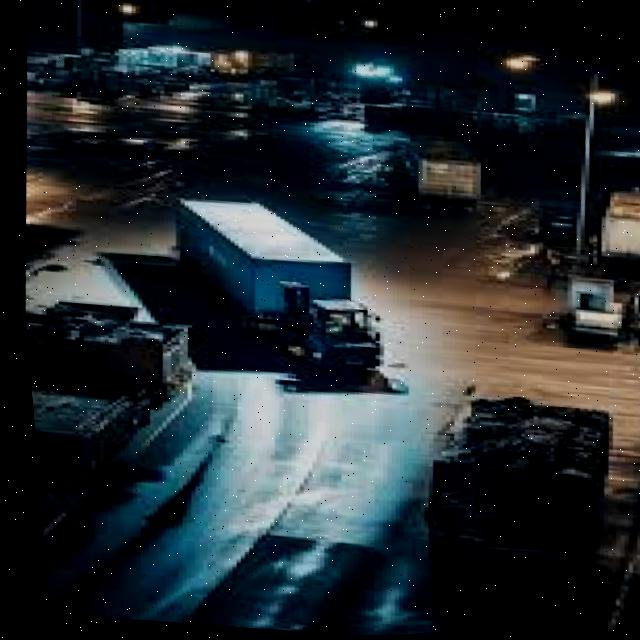truck: (155, 195, 398, 373)
